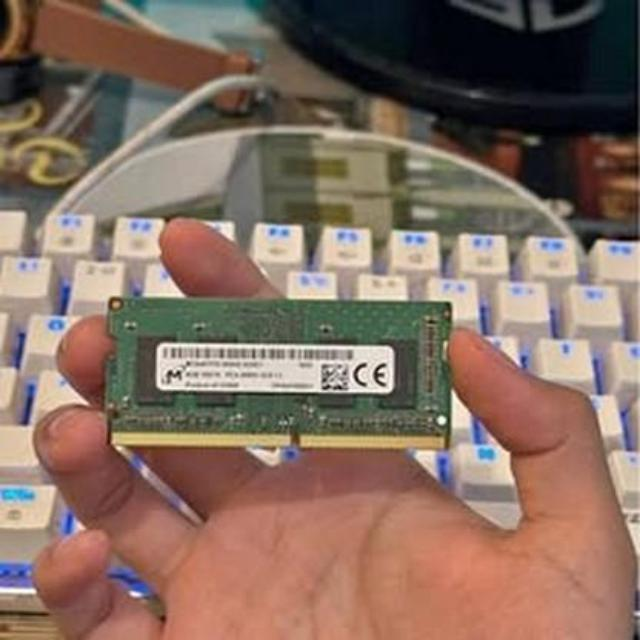RAM: (92, 292, 456, 460)
